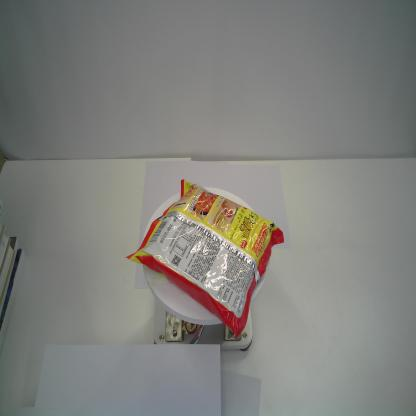Instant Noodles: (125, 177, 285, 338)
